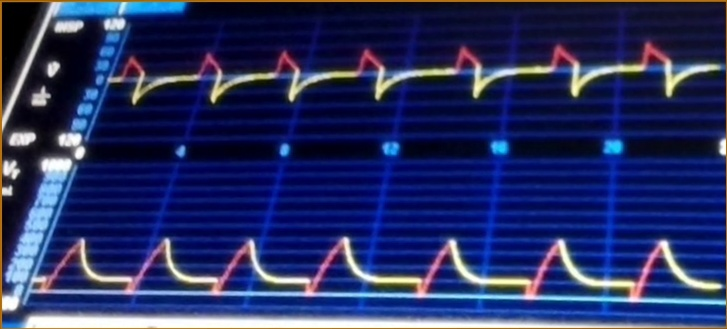Flow: (120, 28, 723, 135)
Leakage Volume: (51, 205, 718, 313)
